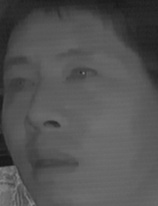eye: (62, 65, 99, 86), (7, 75, 35, 94)
mouth: (23, 144, 80, 182)
